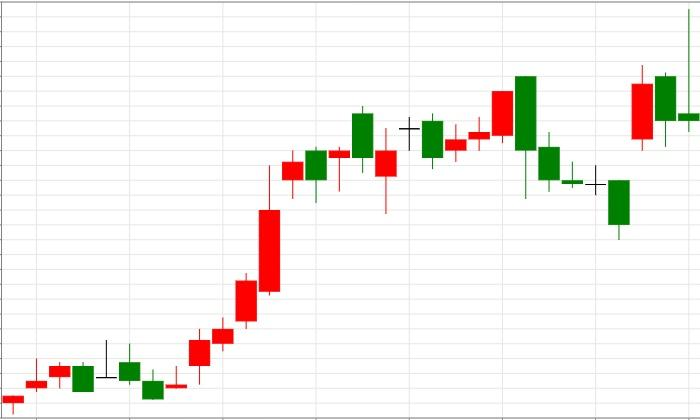bearish_engulfing_fall: (142, 147, 328, 400), (374, 76, 537, 214)
